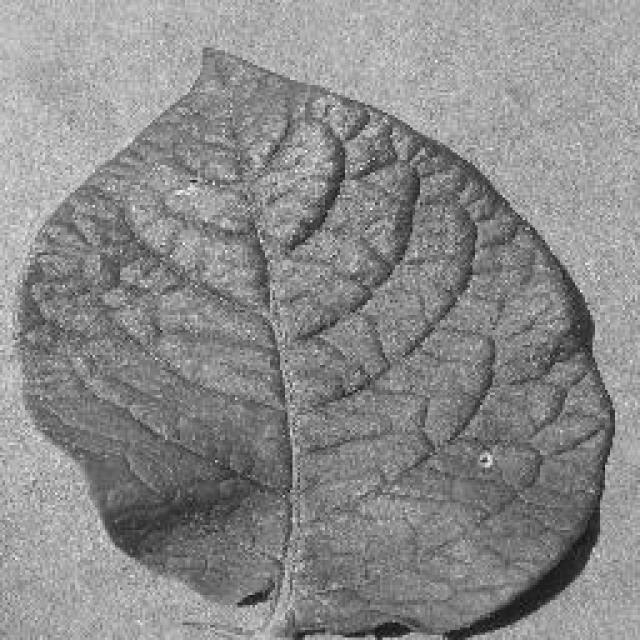Potato: (13, 42, 615, 638)
